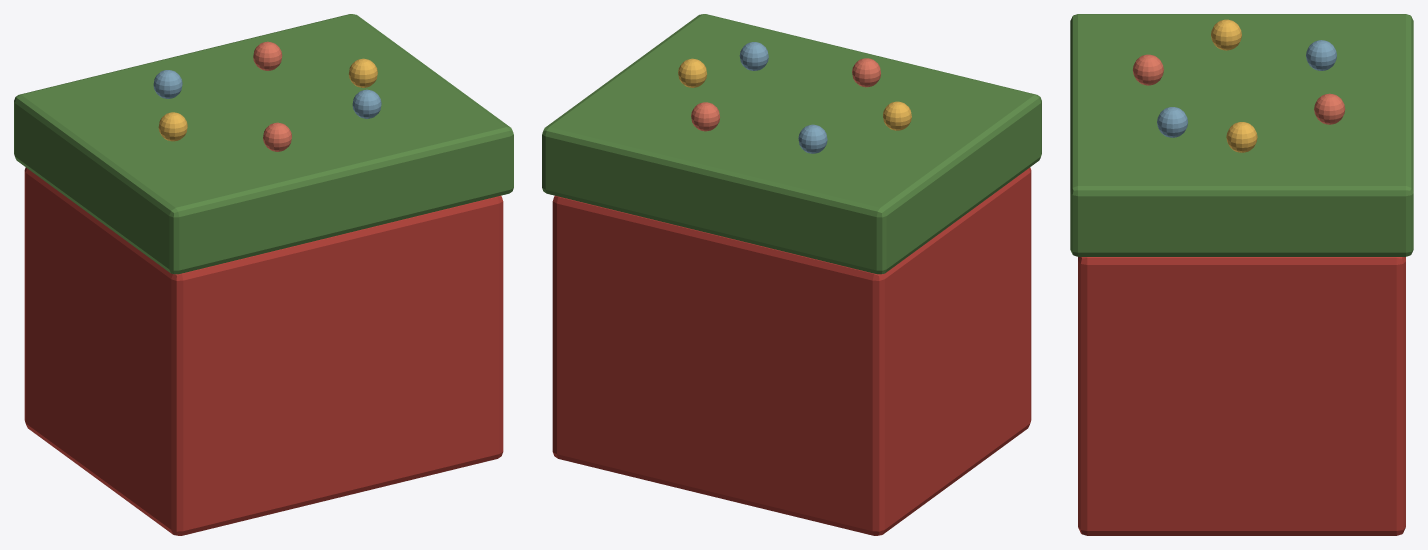
File: hh_christmas_box.glb
3 views of the same model, side by side, from view 1: azimuth 30°, elevation 25°; view 2: azimuth 150°, elevation 25°; view 3: azimuth 270°, elevation 25° (orthographic). The views are drawn at different scales.
Visible parts, largest first — view 1: box, lid, bauble.001, bauble.003, bauble.002, bauble.005, bauble, bauble.004; view 2: box, lid, bauble.002, bauble.001, bauble.003, bauble.004, bauble, bauble.005; view 3: box, lid, bauble.003, bauble.004, bauble.005, bauble.001, bauble.002, bauble.
Boxes of the visible parts, x1=… form: box: x1=24, y1=167, x2=503, y2=535; lid: x1=14, y1=14, x2=513, y2=274; bauble.001: x1=253, y1=41, x2=282, y2=70; bauble.003: x1=158, y1=112, x2=187, y2=141; bauble.002: x1=153, y1=70, x2=182, y2=98; bauble.005: x1=352, y1=89, x2=381, y2=118; bauble: x1=348, y1=58, x2=377, y2=87; bauble.004: x1=263, y1=122, x2=291, y2=151; box: x1=552, y1=167, x2=1031, y2=535; lid: x1=542, y1=14, x2=1041, y2=274; bauble.002: x1=798, y1=124, x2=827, y2=153; bauble.001: x1=691, y1=102, x2=720, y2=131; bauble.003: x1=883, y1=101, x2=911, y2=130; bauble.004: x1=852, y1=58, x2=880, y2=87; bauble: x1=678, y1=58, x2=707, y2=87; bauble.005: x1=739, y1=42, x2=768, y2=70; box: x1=1078, y1=257, x2=1405, y2=535; lid: x1=1070, y1=14, x2=1413, y2=256; bauble.003: x1=1211, y1=19, x2=1241, y2=50; bauble.004: x1=1133, y1=54, x2=1163, y2=85; bauble.005: x1=1157, y1=107, x2=1188, y2=137; bauble.001: x1=1314, y1=93, x2=1345, y2=124; bauble.002: x1=1306, y1=40, x2=1336, y2=70; bauble: x1=1226, y1=122, x2=1257, y2=152.
Size of the model in its own units: 0.54 by 0.54 by 0.44.
